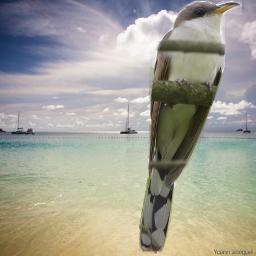Cuckoo: (139, 0, 242, 254)
